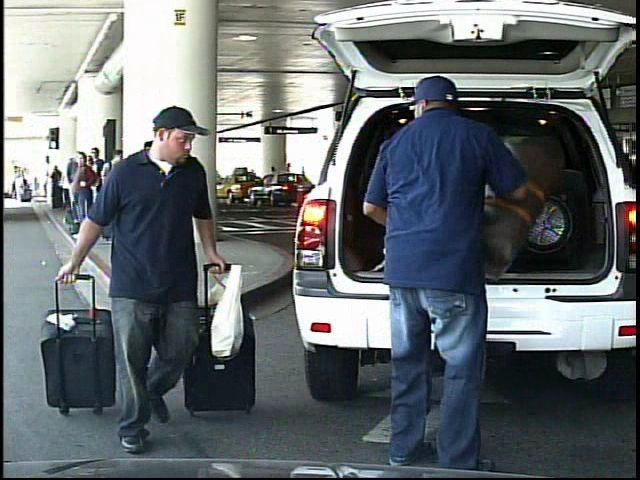person: (355, 74, 541, 476), (89, 111, 249, 448), (282, 162, 295, 198), (14, 172, 26, 204)
